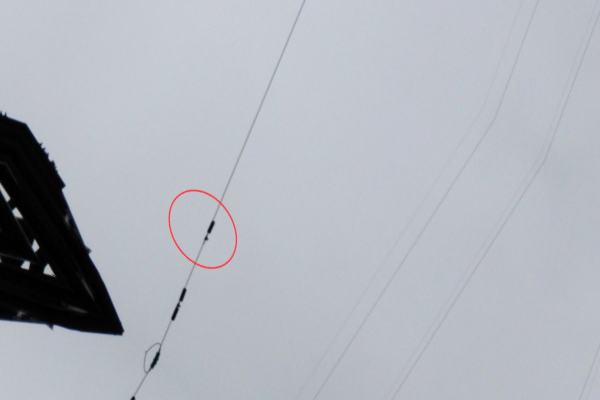damper: (170, 286, 188, 322)
damper_defect: (196, 218, 216, 239)
